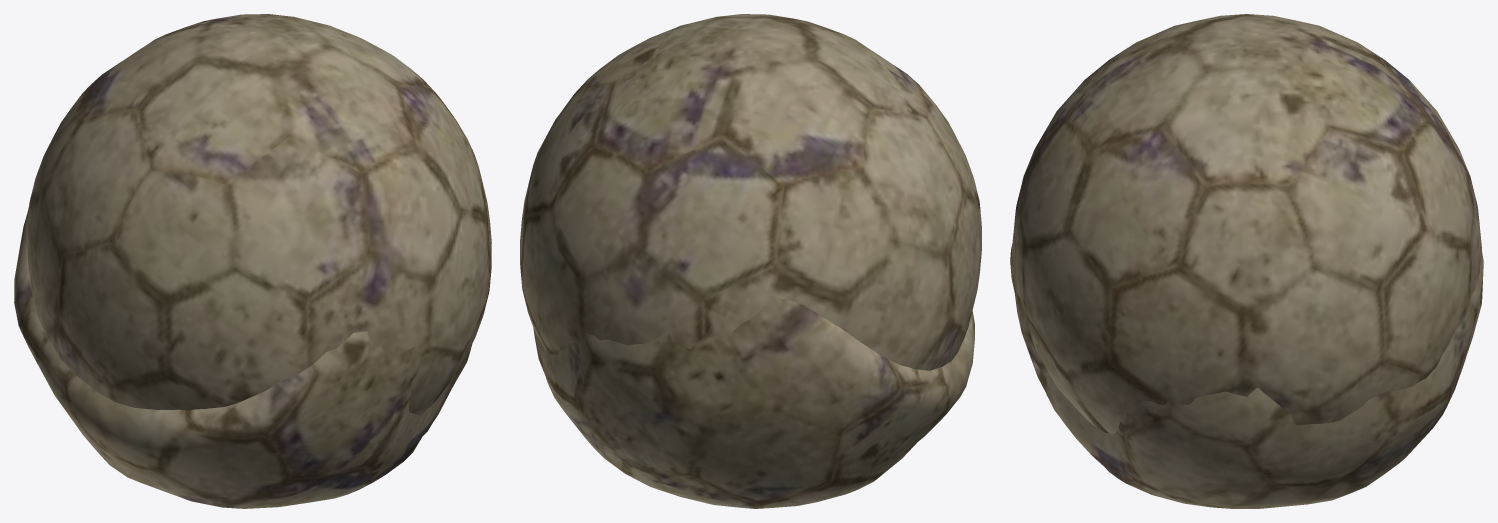
The model's file is football.glb.
3 views of the same model, side by side, from view 1: azimuth 30°, elevation 25°; view 2: azimuth 150°, elevation 25°; view 3: azimuth 270°, elevation 25° (orthographic).
Visible parts, largest first — view 1: football_inflated, football_deflated; view 2: football_inflated, football_deflated; view 3: football_inflated, football_deflated.
Boxes of the visible parts, box(x1,y1,x2,y2) form: football_inflated: box(27, 14, 491, 414); football_deflated: box(14, 207, 472, 508); football_inflated: box(520, 14, 981, 370); football_deflated: box(533, 298, 974, 508); football_inflated: box(1012, 14, 1481, 433); football_deflated: box(1010, 245, 1483, 508).
Size of the model in its own units: 0.2203 by 0.2219 by 0.2222.
1 material, 1 textured.
